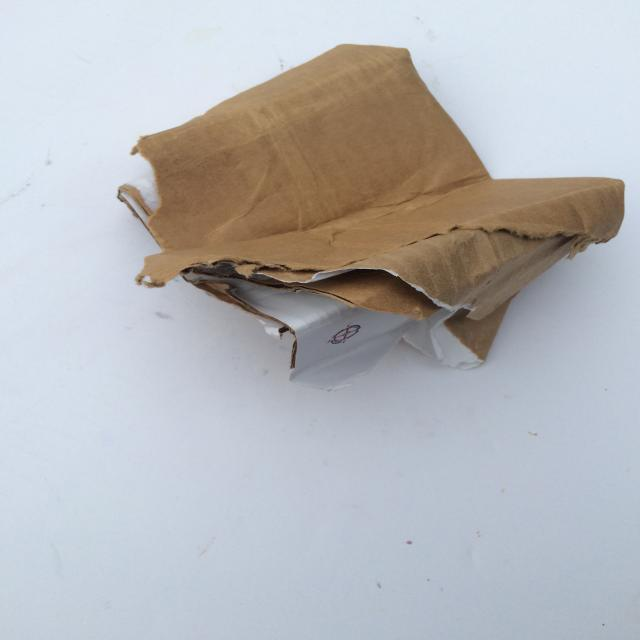cardboard: (117, 42, 626, 388)
